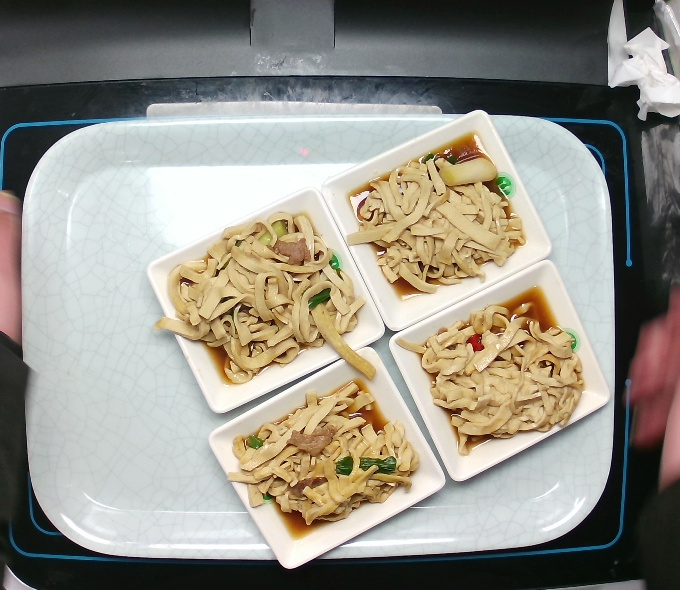wcq-QianZhang: (162, 211, 359, 386), (349, 136, 543, 299), (226, 374, 420, 537), (405, 284, 590, 452)
